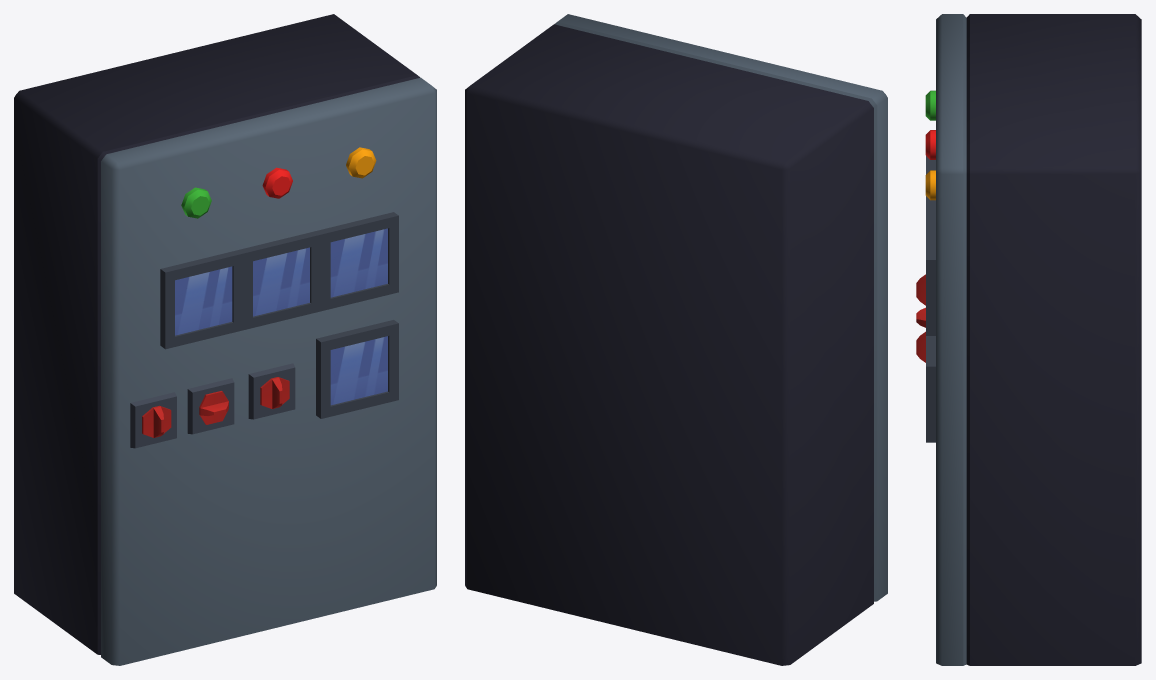
File: ElectricBox_3_D_1.fbx
The picture shows the model from 3 angles, left to right: view 1: azimuth 30°, elevation 25°; view 2: azimuth 150°, elevation 25°; view 3: azimuth 270°, elevation 25°; orthographic projection.
Visible parts, largest first — view 1: ElectricBox_3_D_1; view 2: ElectricBox_3_D_1; view 3: ElectricBox_3_D_1.
Part boxes in pixels (left/top/right/bottom): ElectricBox_3_D_1: left=14, top=14, right=436, bottom=665; ElectricBox_3_D_1: left=465, top=14, right=887, bottom=665; ElectricBox_3_D_1: left=916, top=14, right=1141, bottom=665.
Bounding box in the file's own units: 102 × 150 × 61.6.
